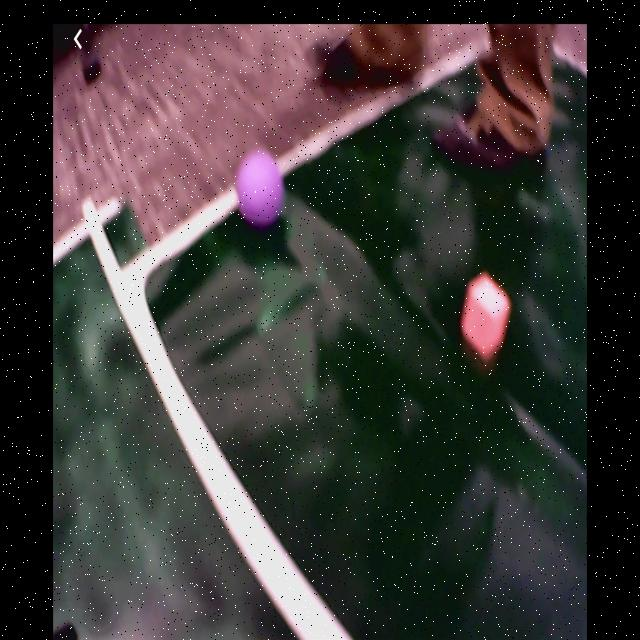ball: (239, 151, 283, 222)
